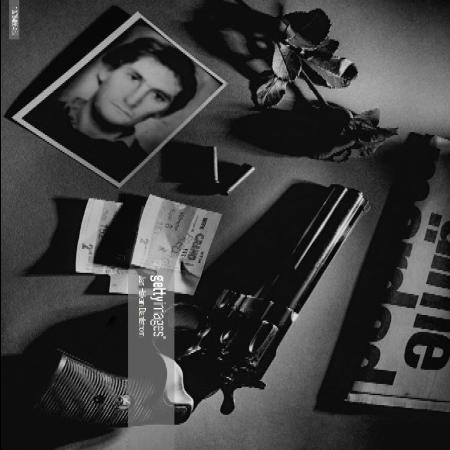Pistol: (40, 174, 375, 432)
